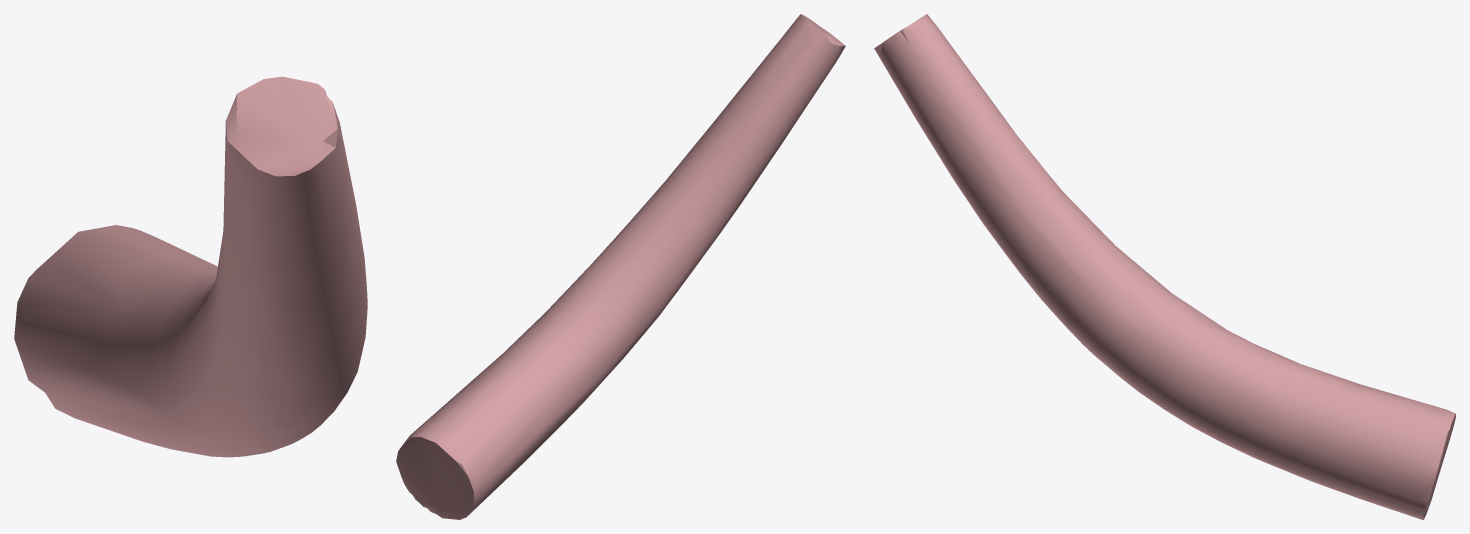
File: fma68212_fj6547.glb
3 views of the same model, side by side, from view 1: azimuth 30°, elevation 25°; view 2: azimuth 150°, elevation 25°; view 3: azimuth 270°, elevation 25° (orthographic). The views are drawn at different scales.
Visible parts, largest first — view 1: FMA68212_FJ6547; view 2: FMA68212_FJ6547; view 3: FMA68212_FJ6547.
Part boxes in pixels (x1=…): FMA68212_FJ6547: x1=14, y1=76, x2=367, y2=457; FMA68212_FJ6547: x1=396, y1=14, x2=845, y2=519; FMA68212_FJ6547: x1=874, y1=14, x2=1455, y2=519.
Bounding box in the file's own units: 0.00869 × 0.0143 × 0.018.
